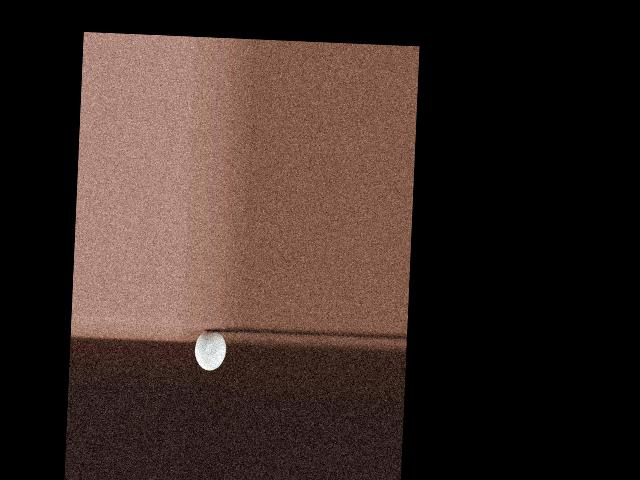egg: (194, 329, 226, 371)
